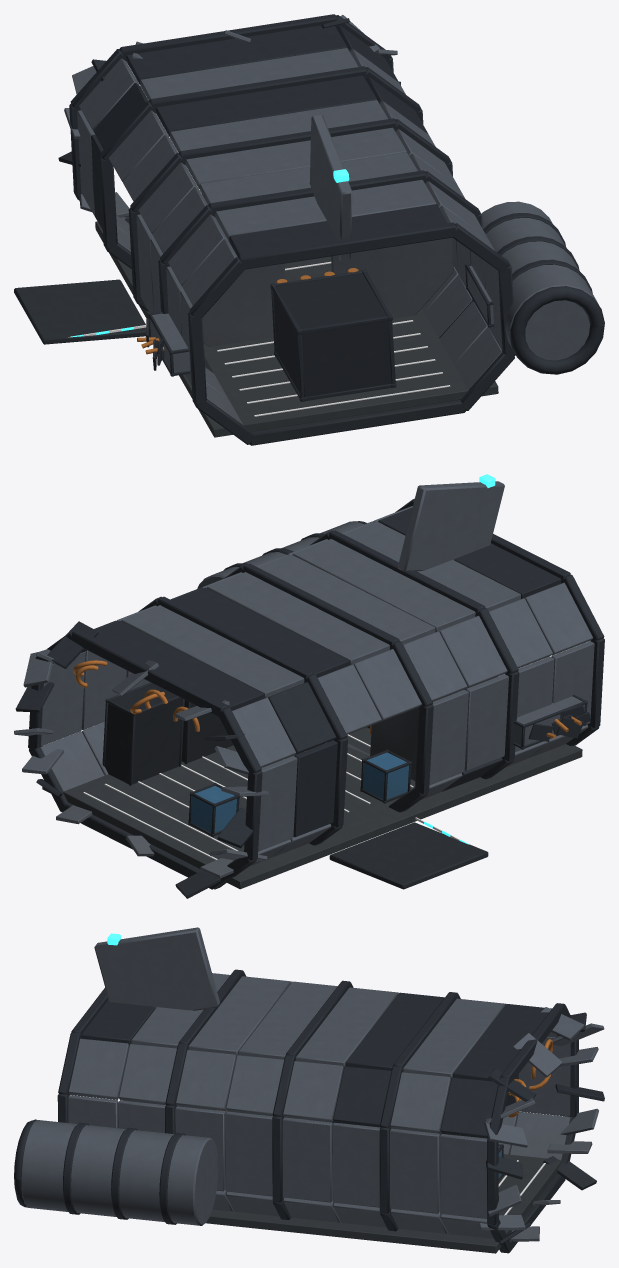
File: sv04_aft.glb
The picture shows the model from 3 angles, top to bottom: view 1: azimuth 30°, elevation 25°; view 2: azimuth 150°, elevation 25°; view 3: azimuth 270°, elevation 25°; orthographic projection. The views are drawn at different scales.
Visible parts, largest first — view 1: sv04_aft; view 2: sv04_aft; view 3: sv04_aft.
Part boxes in pixels (x1,y1,x2,y2): sv04_aft: (14,14,604,445); sv04_aft: (14,474,604,898); sv04_aft: (14,927,604,1253).
Size of what is drawn, in the model's own units: 15.65 by 10.02 by 21.19.
15 materials, 11 textured.
